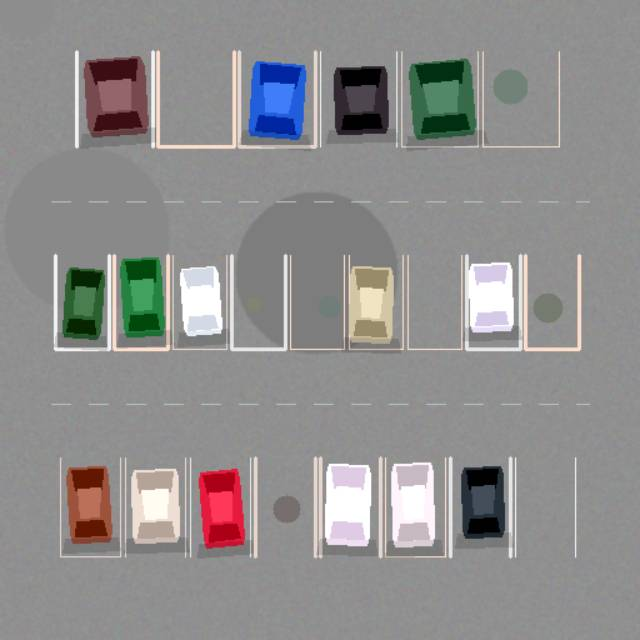space-empty: (157, 51, 234, 146), (483, 51, 559, 146), (255, 457, 315, 556), (515, 457, 575, 556), (231, 255, 285, 349), (290, 255, 344, 349), (525, 255, 579, 349), (408, 255, 461, 349)
space-occupied: (76, 51, 153, 146), (239, 51, 315, 146), (320, 51, 396, 146), (401, 51, 477, 146), (60, 457, 120, 556), (125, 457, 185, 556), (190, 457, 250, 556), (320, 457, 380, 556), (385, 457, 445, 556), (450, 457, 510, 556), (55, 255, 109, 349), (114, 255, 168, 349), (172, 255, 226, 349), (466, 255, 520, 349), (349, 255, 402, 349)
